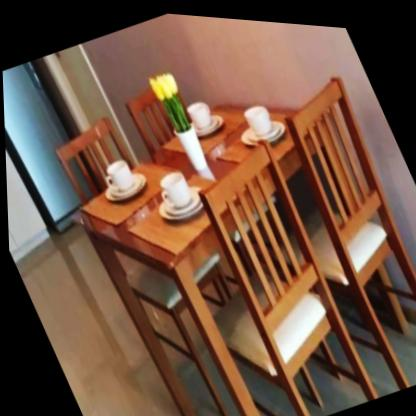Dining Table: (6, 0, 416, 416)
